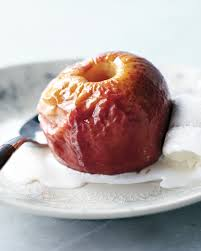damaged_apple: (40, 50, 167, 172)
